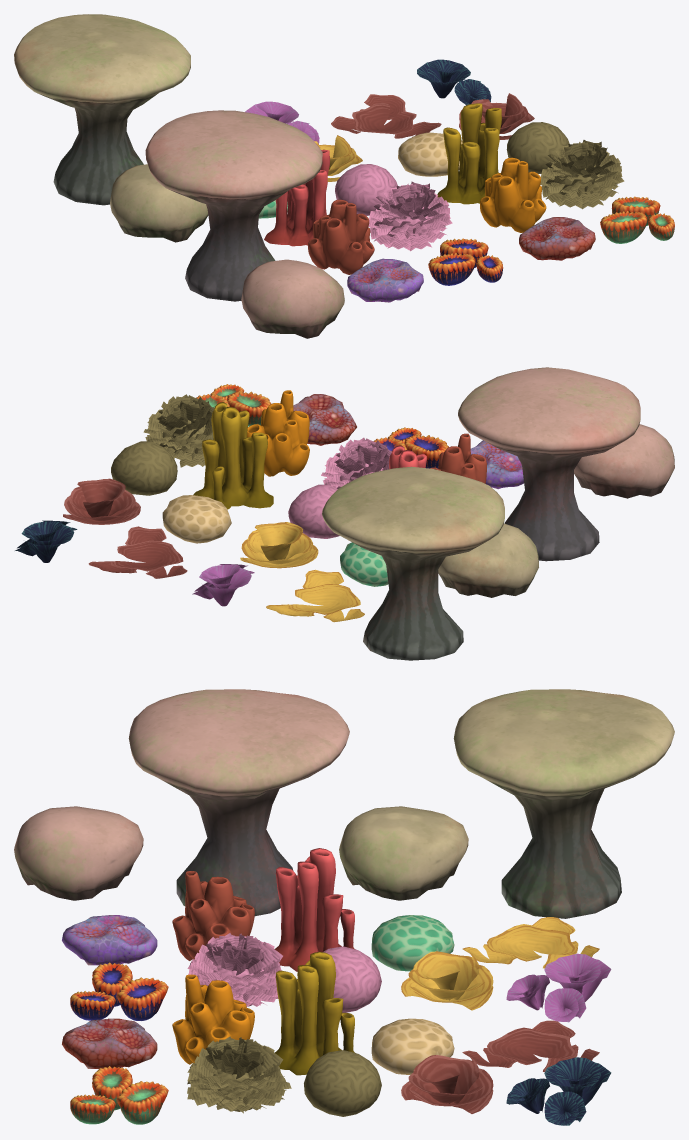
The model's file is TO_016_Coralreefs.glb.
3 views of the same model, one above another, from view 1: azimuth 30°, elevation 25°; view 2: azimuth 150°, elevation 25°; view 3: azimuth 270°, elevation 25° (orthographic). The views are drawn at different scales.
Parts seen in each view (by area): view 1: Coral02_low, Coral02_low1, Coral01_low, Coral01_low1, coral11, coral14, coral23, coral19, coral10, coral25, coral17, coral20 (+10 smaller); view 2: Coral02_low1, Coral02_low, coral11, Coral01_low, Coral01_low1, coral14, coral10, coral15, coral16, coral28, coral17, coral24 (+12 smaller); view 3: Coral02_low1, Coral02_low, Coral01_low, Coral01_low1, coral11, coral25, coral14, coral23, coral19, coral10, coral18, coral21 (+12 smaller).
Part boxes in pixels (box(x1,y1,x2,y2)): Coral02_low: box(145, 110, 322, 301); Coral02_low1: box(14, 14, 190, 205); Coral01_low: box(241, 259, 344, 338); Coral01_low1: box(110, 164, 208, 242); coral11: box(437, 103, 501, 204); coral14: box(540, 140, 624, 209); coral23: box(368, 181, 452, 251); coral19: box(308, 199, 374, 274); coral10: box(479, 157, 546, 232); coral25: box(264, 149, 329, 246); coral17: box(331, 94, 441, 138); coral20: box(347, 258, 423, 302); Coral02_low1: box(322, 466, 504, 660); Coral02_low: box(458, 367, 640, 561); coral11: box(193, 402, 273, 509); Coral01_low: box(574, 424, 674, 498); Coral01_low1: box(438, 523, 538, 597); coral14: box(143, 394, 214, 467); coral10: box(247, 390, 309, 476); coral15: box(111, 441, 177, 495); coral16: box(63, 478, 140, 524); coral28: box(240, 522, 318, 568); coral17: box(88, 526, 187, 578); coral24: box(266, 569, 364, 622); Coral02_low1: box(453, 689, 674, 918); Coral02_low: box(128, 689, 349, 916); Coral01_low: box(14, 806, 143, 900); Coral01_low1: box(339, 806, 468, 900); coral11: box(274, 951, 354, 1075); coral25: box(274, 848, 355, 971); coral14: box(187, 1036, 291, 1113); coral23: box(187, 933, 282, 1006); coral19: box(172, 871, 254, 960); coral10: box(172, 974, 254, 1064); coral18: box(506, 1057, 611, 1125); coral21: box(506, 953, 611, 1022).
Size of the model in its own units: 3.33 by 1.06 by 3.33.
Materials: 4 (4 with a texture image).
